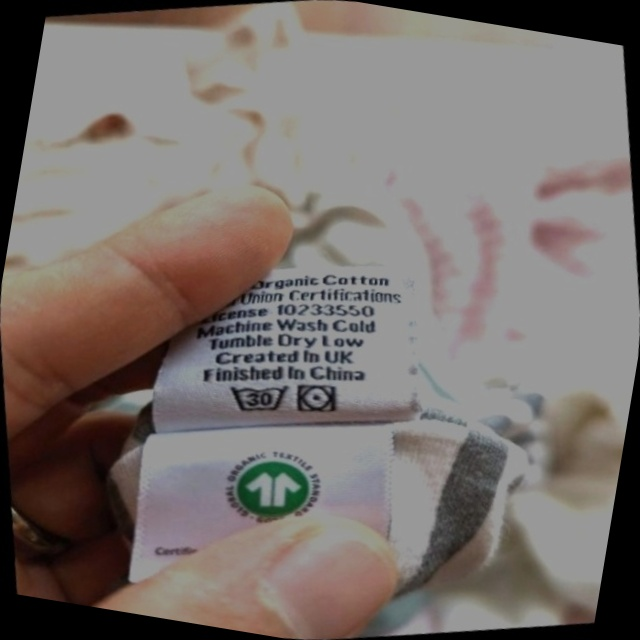30C: (218, 368, 298, 428)
tumble_dry_low: (288, 372, 346, 425)
